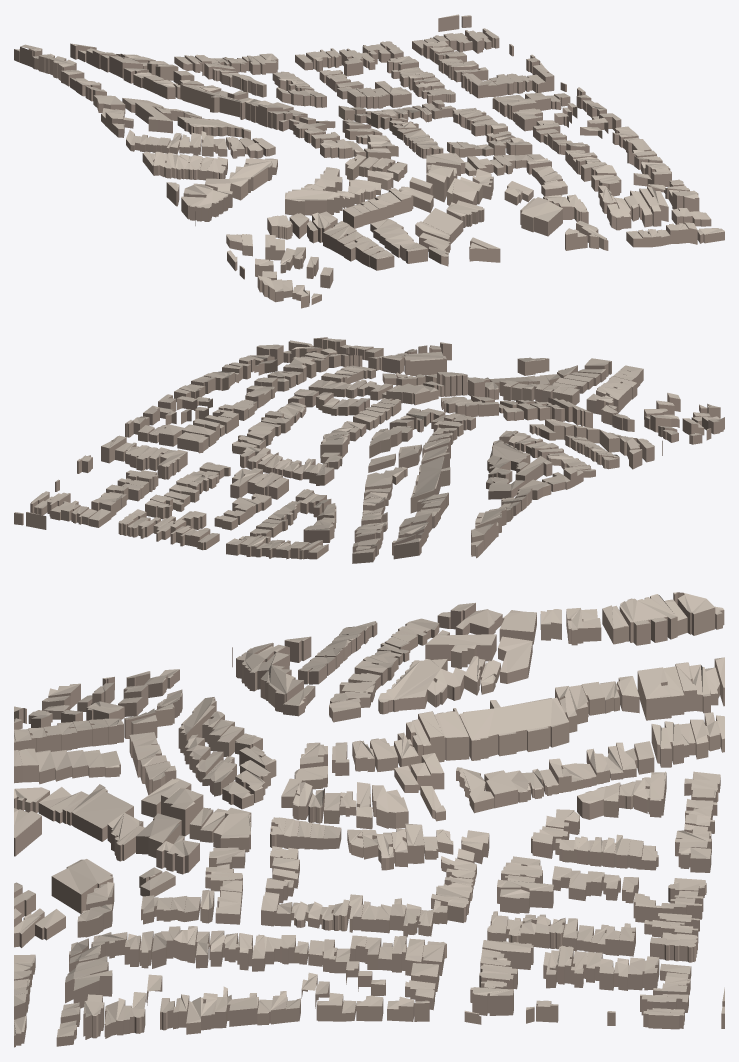
The model's file is epsg26910-1430-10882.datasf-height-preview.glb.
The picture shows the model from 3 angles, top to bottom: view 1: azimuth 30°, elevation 25°; view 2: azimuth 150°, elevation 25°; view 3: azimuth 270°, elevation 25°; orthographic projection. The views are drawn at different scales.
Parts seen in each view (by area): view 1: epsg26910-1430-10882-datasf-height-preview; view 2: epsg26910-1430-10882-datasf-height-preview; view 3: epsg26910-1430-10882-datasf-height-preview.
Boxes of the visible parts, x1,y1,x2,y2 form: epsg26910-1430-10882-datasf-height-preview: (14, 14, 724, 308); epsg26910-1430-10882-datasf-height-preview: (14, 337, 724, 563); epsg26910-1430-10882-datasf-height-preview: (14, 592, 724, 1047).
Size of the model in its own units: 384 by 95.92 by 384.
